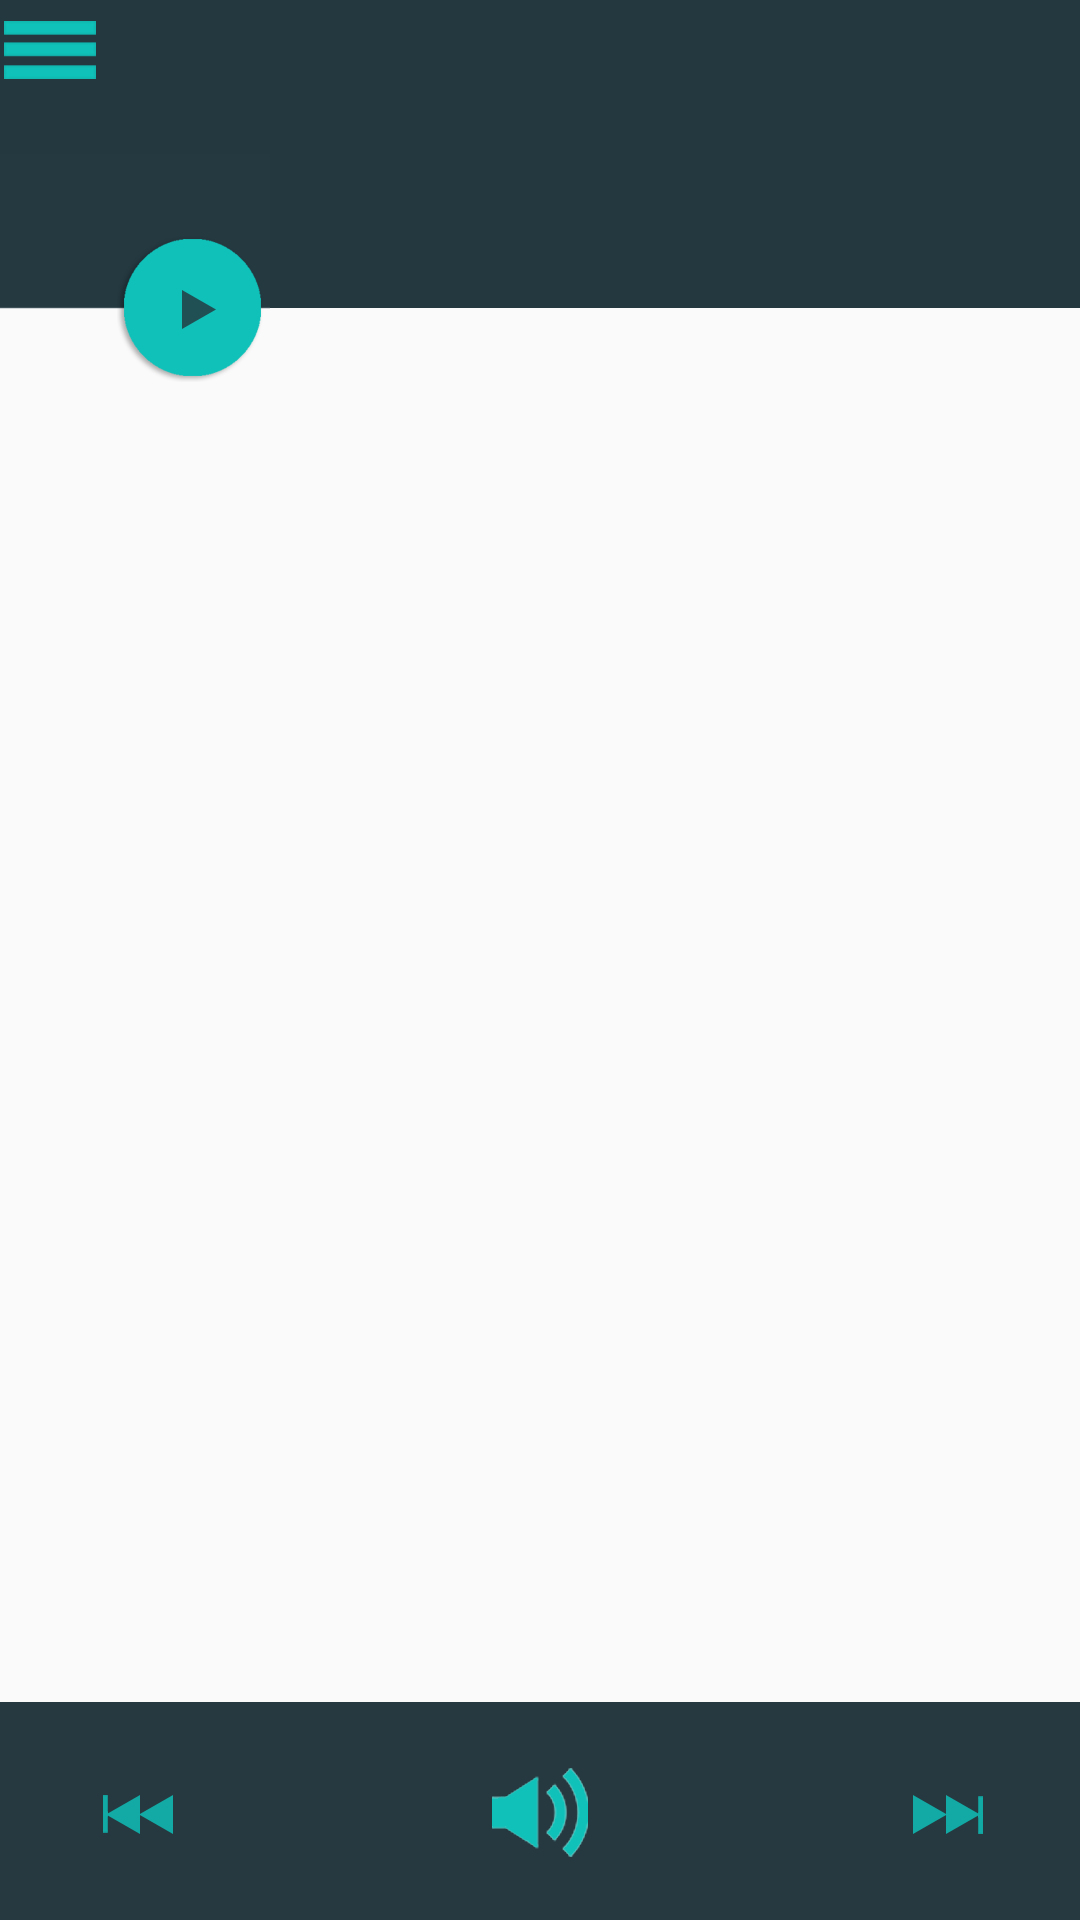

Icon click points for this 1080w x 1920h phone screenshot, format [x,y]:
notmuted: [540,1812]
optbtn: [50,50]
playbtn: [192,307]
